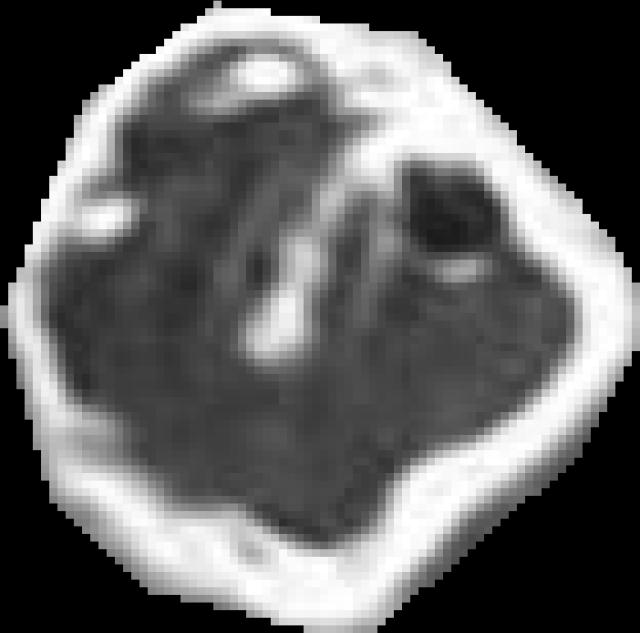tumor_good_chance: (0, 1, 640, 633)
